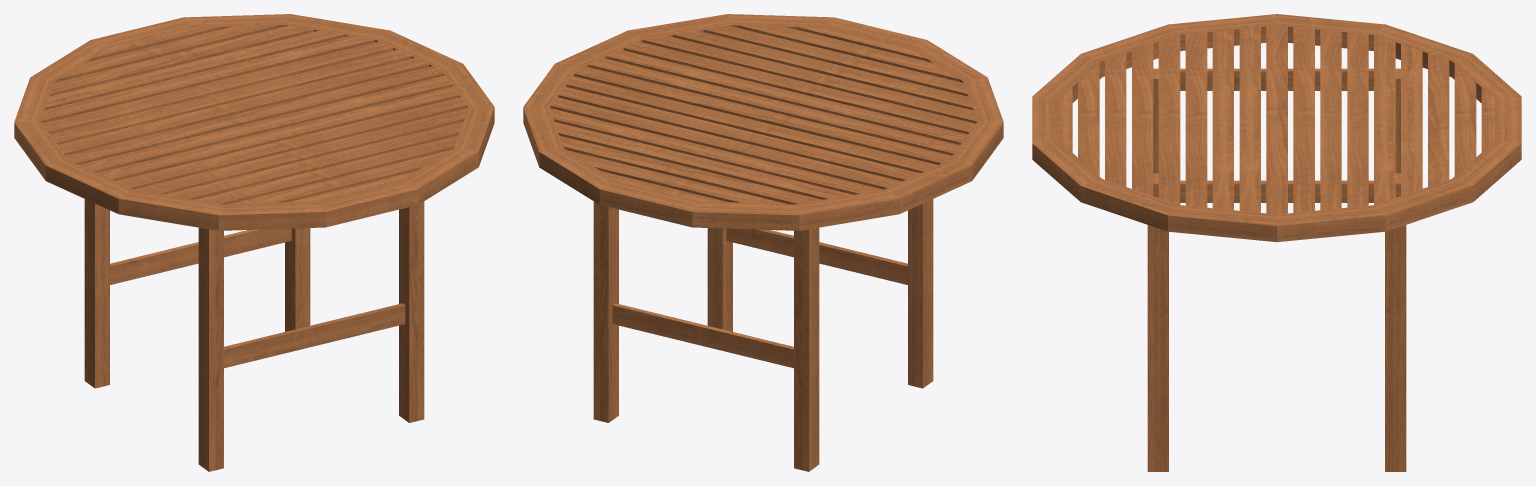
Rendered from Pool_Table_01.fbx.
The picture shows the model from 3 angles, left to right: view 1: azimuth 30°, elevation 25°; view 2: azimuth 150°, elevation 25°; view 3: azimuth 270°, elevation 25°; orthographic projection. The views are drawn at different scales.
Visible parts, largest first — view 1: Pool_Table_01; view 2: Pool_Table_01; view 3: Pool_Table_01.
Part boxes in pixels (bbox=[...]): Pool_Table_01: bbox=[14, 14, 494, 471]; Pool_Table_01: bbox=[523, 14, 1003, 471]; Pool_Table_01: bbox=[1032, 14, 1521, 471].
Bounding box in the file's own units: 2263 × 1480 × 2206.
1 material, 1 textured.
